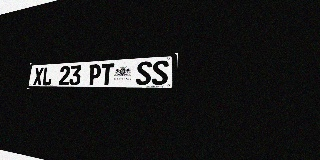plate: (27, 53, 178, 90)
